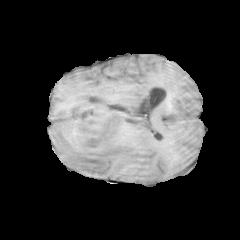glioma: (52, 97, 151, 173)
